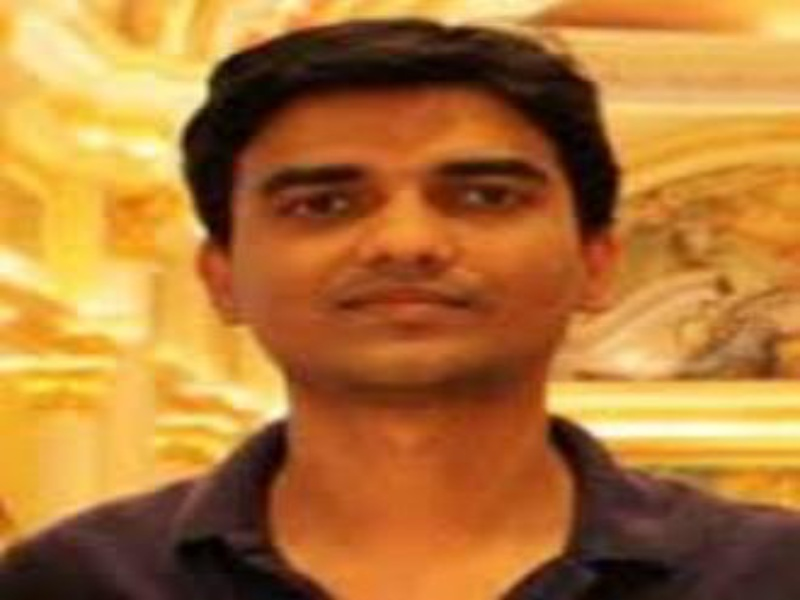TsisyArotava: (177, 49, 650, 417)
